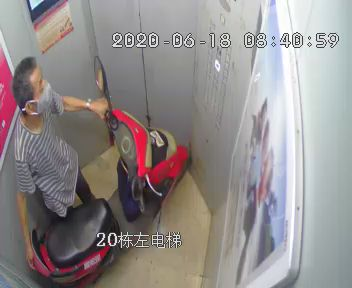Electric-bicycle: (30, 55, 193, 283)
